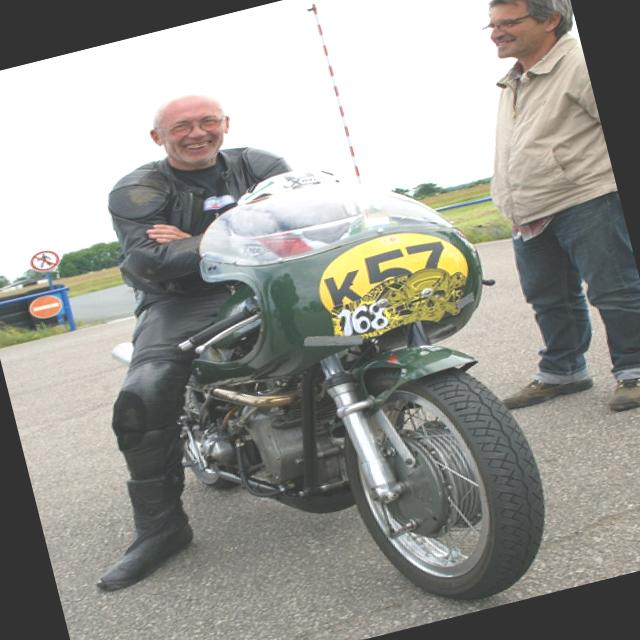Vehicle: (123, 128, 576, 640)
